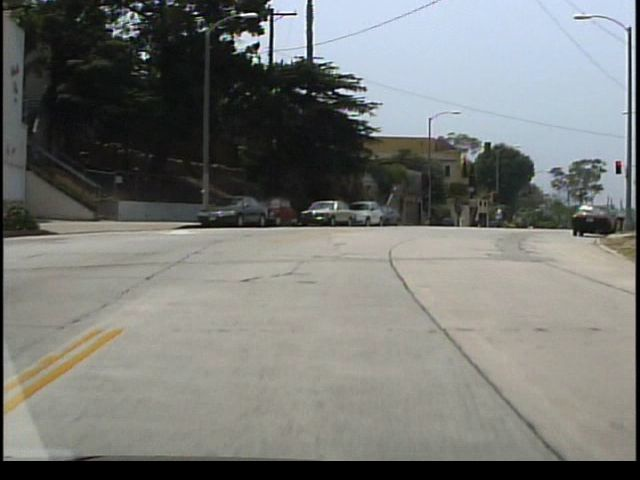person: (499, 206, 507, 228)
